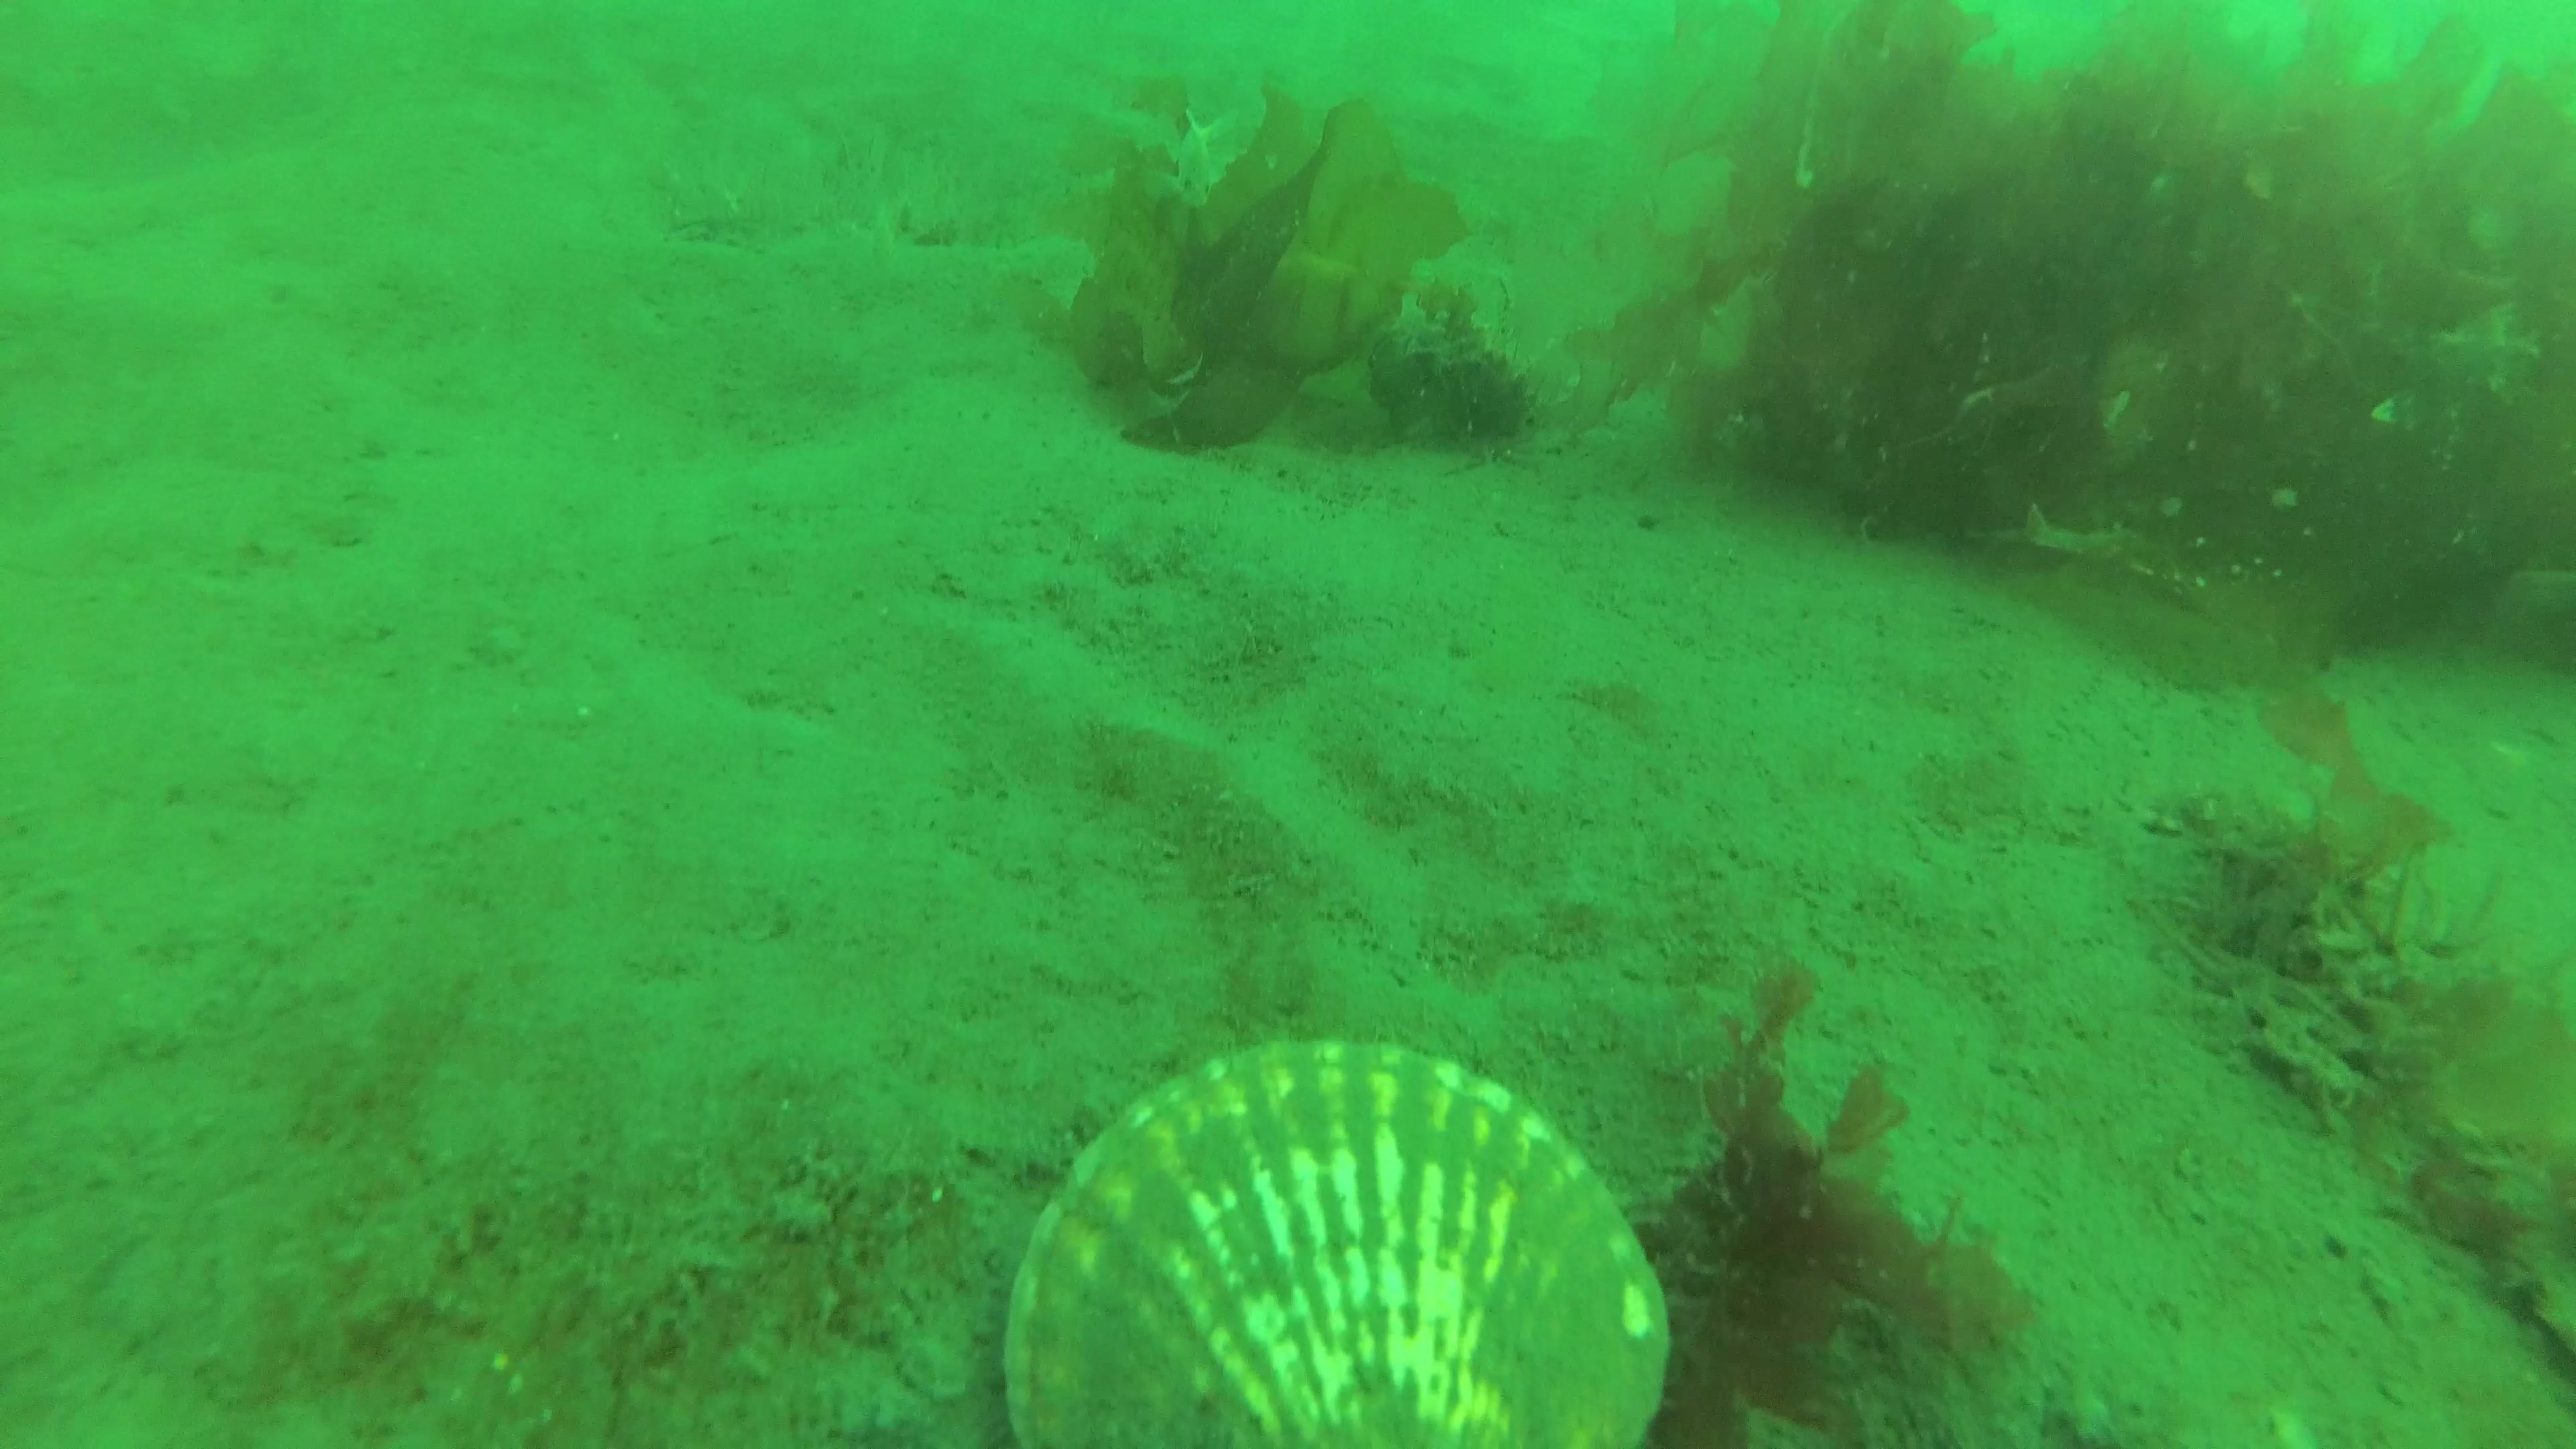scallop: (973, 1030, 1681, 1449)
